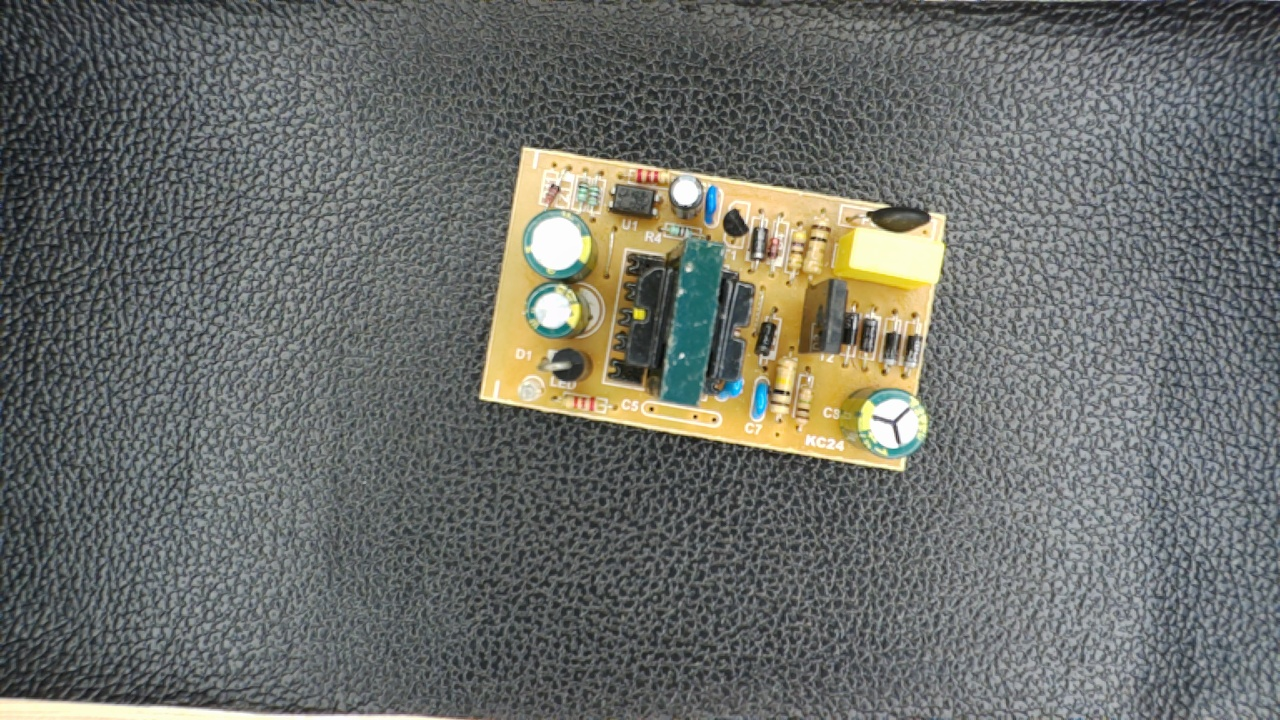fuse: (842, 201, 938, 234)
hv_capacitor: (839, 383, 933, 461)
optocoupler: (605, 177, 668, 224)
